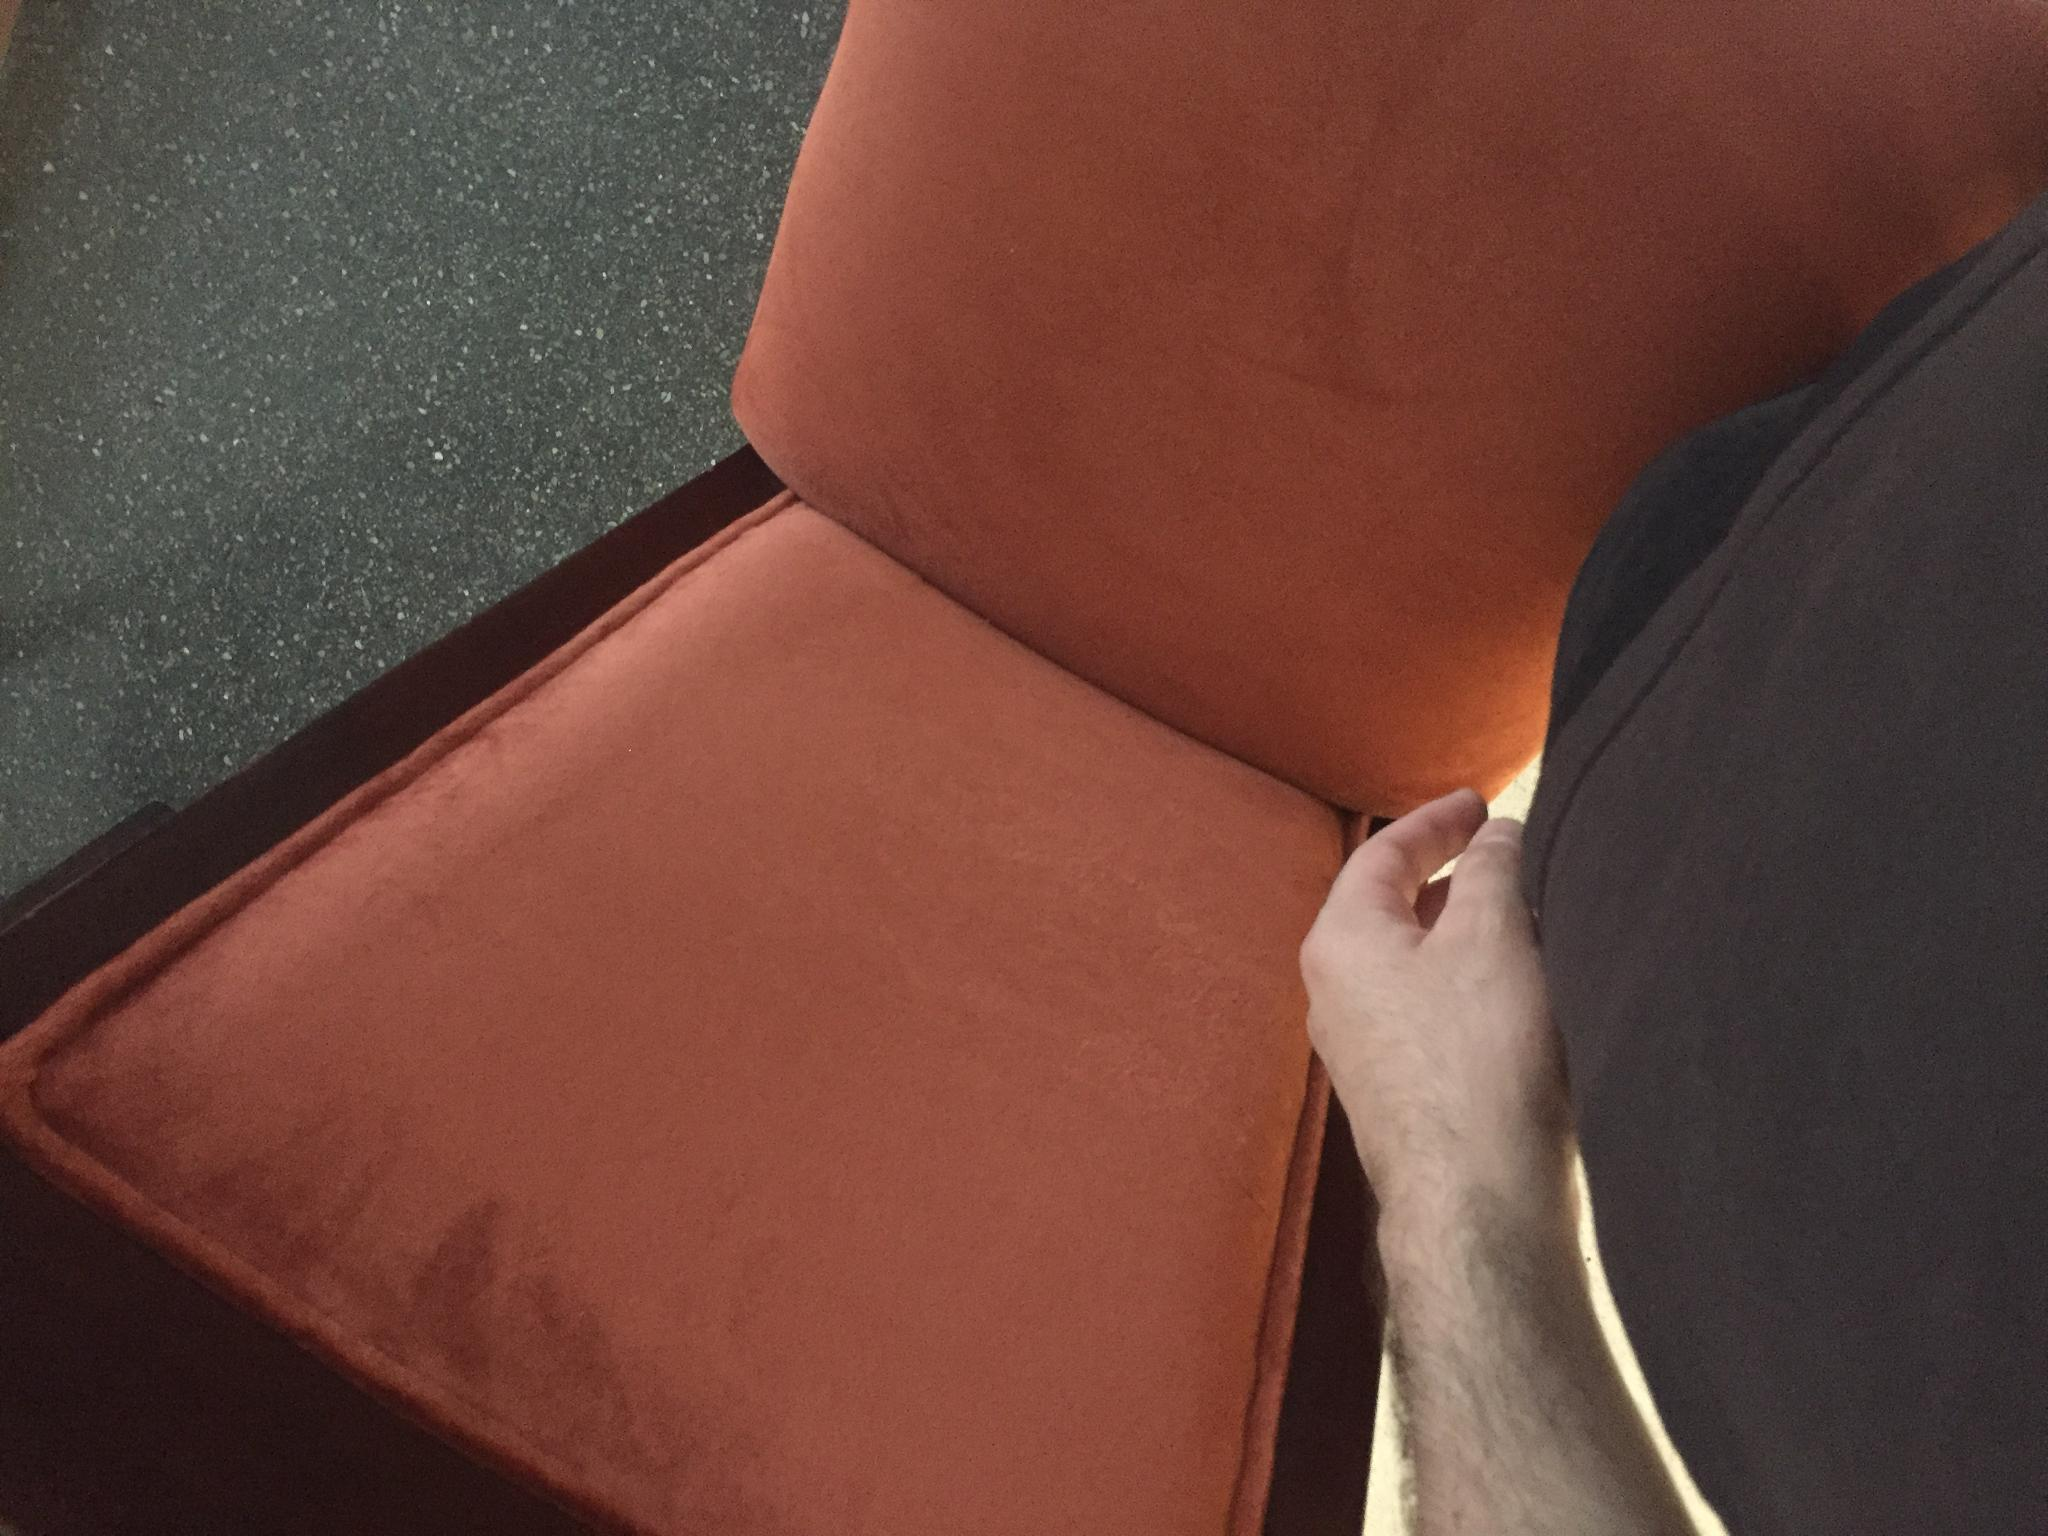chair: (2, 2, 2044, 1534)
